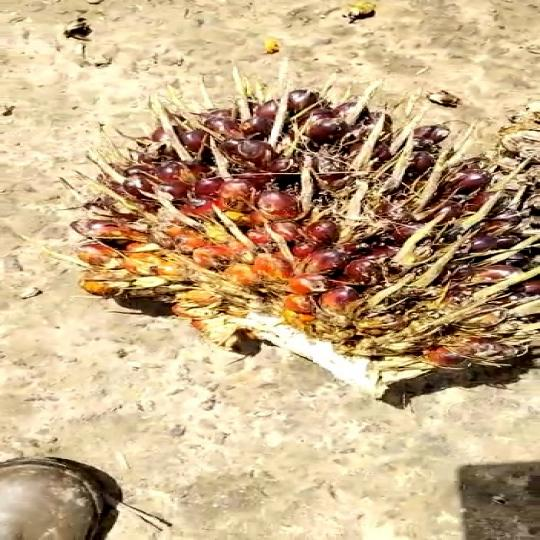kurang masak: (62, 91, 540, 400)
